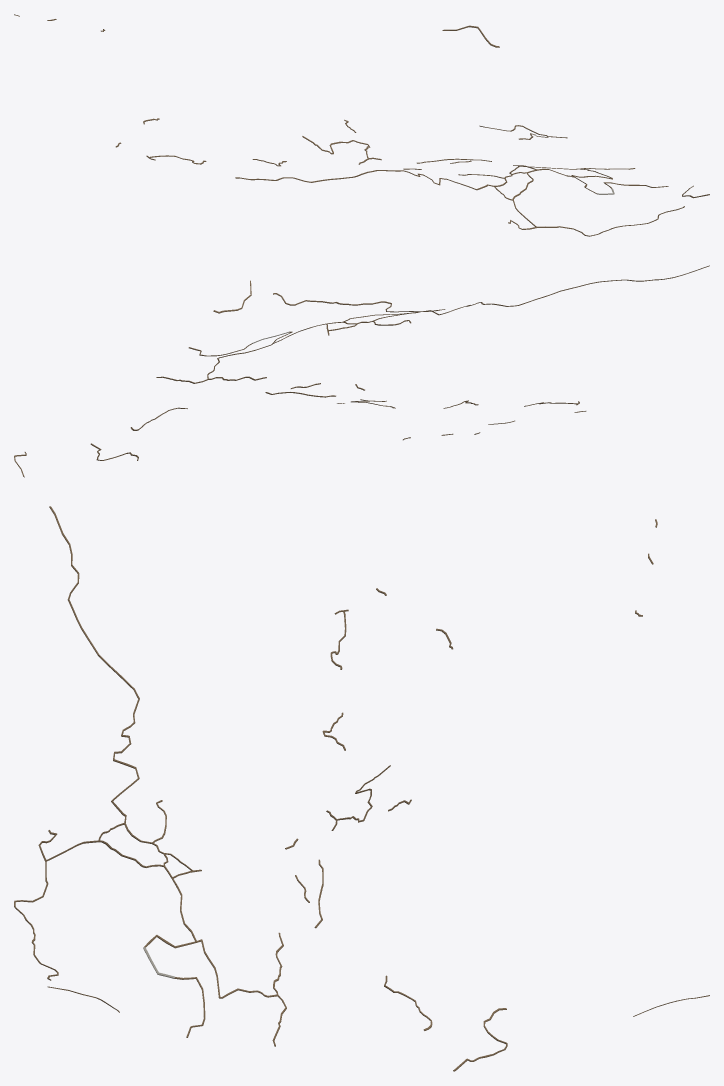
3 views of the same model, one above another, from view 1: azimuth 30°, elevation 25°; view 2: azimuth 150°, elevation 25°; view 3: azimuth 270°, elevation 25° (orthographic). The views are drawn at different scales.
Size of the model in its own units: 587 by 220 by 551.
